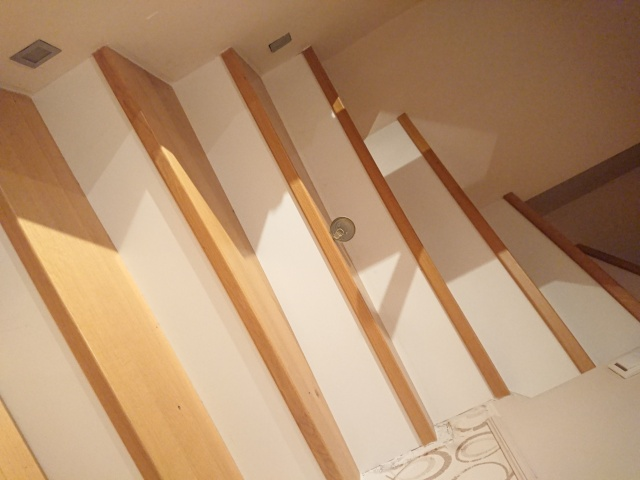Podravka Luncheon Meat 150g: (328, 215, 358, 244)
